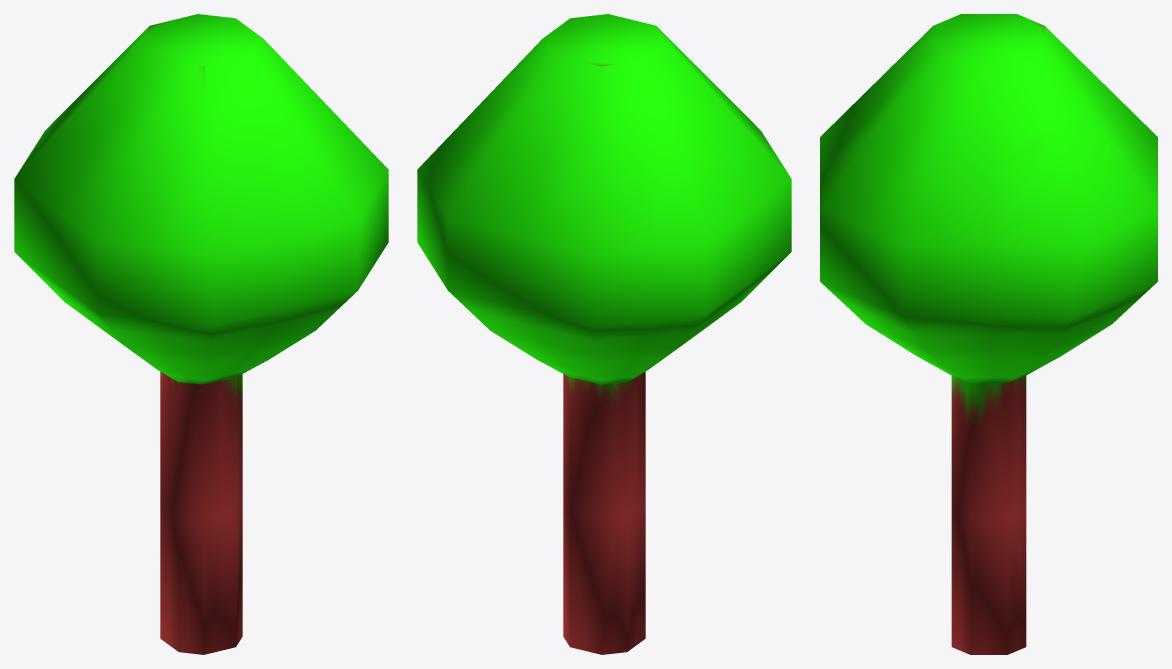
File: tree.glb
The picture shows the model from 3 angles, left to right: view 1: azimuth 30°, elevation 25°; view 2: azimuth 150°, elevation 25°; view 3: azimuth 270°, elevation 25°; orthographic projection.
Visible parts, largest first — view 1: Cube; view 2: Cube; view 3: Cube.
Part boxes in pixels (bbox=[...]): Cube: bbox=[14, 14, 388, 654]; Cube: bbox=[417, 14, 791, 654]; Cube: bbox=[820, 14, 1157, 654].
Size of the model in its own units: 1.86 by 3.65 by 1.86.
1 material, 1 textured.
